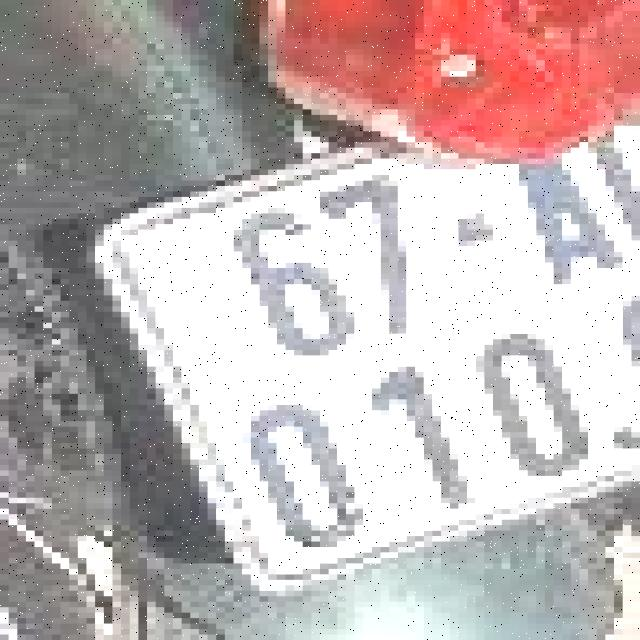0: (219, 387, 396, 566), (455, 317, 610, 492), (8, 1, 10, 2)
1: (345, 351, 493, 528)
6: (204, 194, 378, 376)
7: (307, 167, 474, 341)
A: (488, 130, 640, 297)
